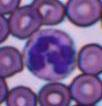N: (26, 29, 76, 81)
